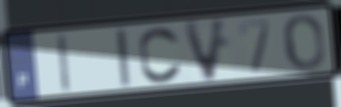7: (236, 16, 273, 77)
C: (137, 24, 185, 85)
I: (113, 26, 133, 90), (55, 30, 73, 95)
O: (281, 12, 327, 72)
V: (179, 15, 231, 85)
